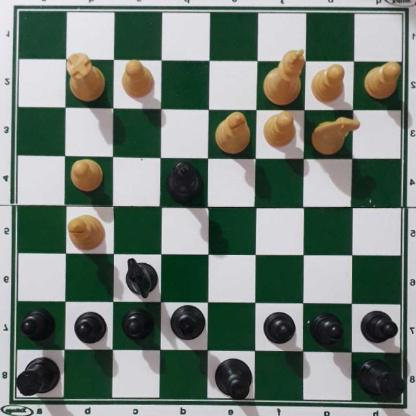black-bishop: (168, 304, 207, 341)
black-king: (213, 358, 255, 401)
black-knight: (123, 258, 159, 298)
black-pawn: (360, 311, 396, 347), (263, 314, 295, 349), (20, 312, 54, 344), (311, 315, 343, 349), (121, 310, 153, 344), (73, 312, 104, 346)
black-queen: (164, 160, 201, 205)
black-rook: (13, 358, 61, 401), (358, 361, 405, 402)
white-bishop: (213, 110, 251, 154), (66, 215, 106, 252)
white-king: (262, 48, 306, 106)
white-knight: (309, 114, 362, 157)
white-pawn: (310, 64, 346, 104), (120, 60, 154, 101), (363, 64, 400, 101), (261, 114, 296, 151), (69, 160, 103, 193)
white-rook: (65, 52, 105, 103)
